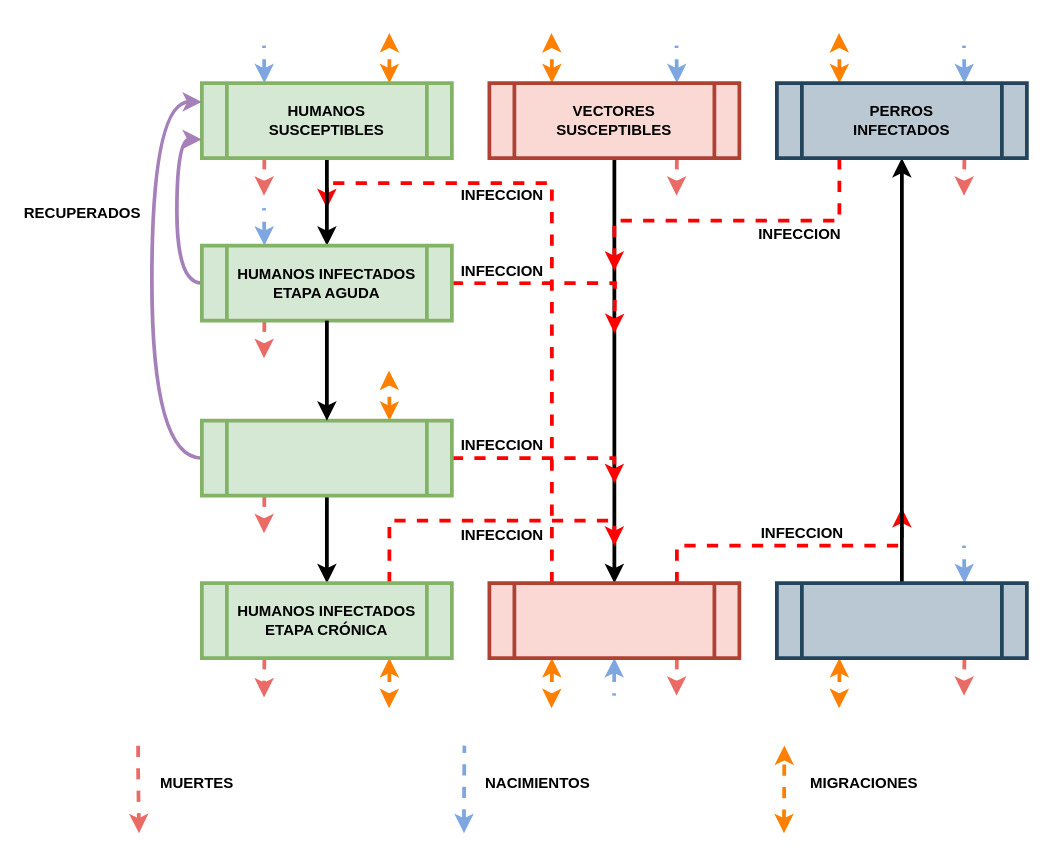
The diagram is 1050 pixels wide and 868 high, and some of its shapes have lost their labels. The shapes that lost their labels are listed below. From the top down, each one's centre as x and y in pixels, then its label:
pixel 326 457: HUMANOS INFECTADOS ETAPA INDETERMINADA
pixel 614 620: VECTORES INFECTADOS
pixel 901 620: PERROS SUSCEPTIBLES
